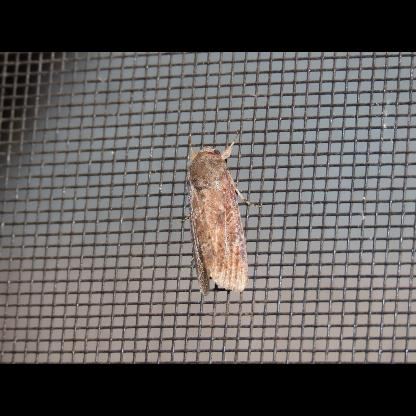Fall Armyworm Moth: (178, 127, 264, 298)
